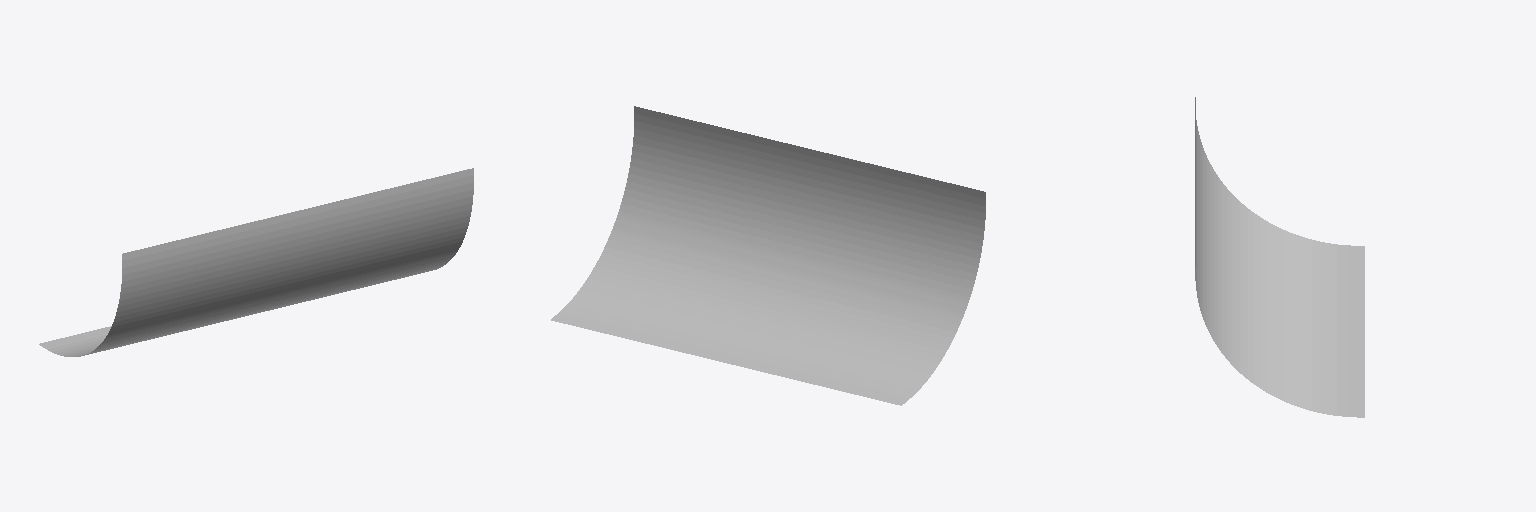
The model's file is ramp1.obj.
3 views of the same model, side by side, from view 1: azimuth 30°, elevation 25°; view 2: azimuth 150°, elevation 25°; view 3: azimuth 270°, elevation 25° (orthographic).
Visible parts, largest first — view 1: Plane; view 2: Plane; view 3: Plane.
Part boxes in pixels (x1,y1,x2,y2): Plane: (39, 168, 473, 356); Plane: (551, 106, 985, 405); Plane: (1195, 97, 1364, 417).
Bounding box in the file's own units: 16.4 × 6.78 × 6.84.